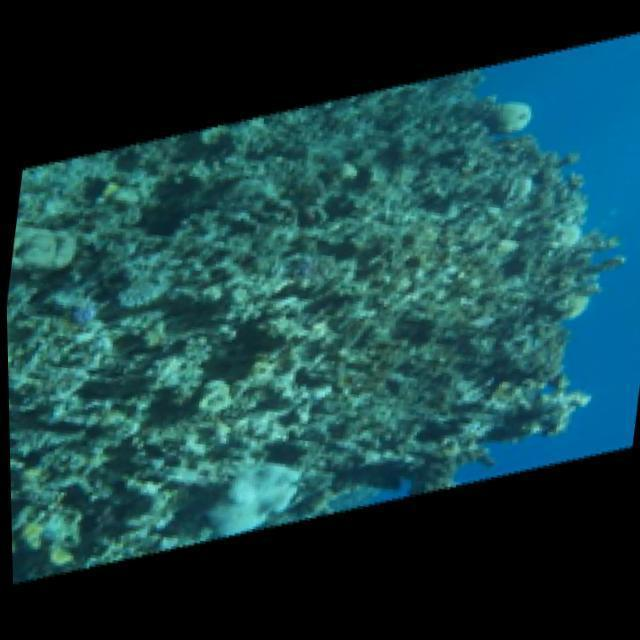Dead Coral: (252, 29, 621, 514), (2, 128, 354, 577), (369, 360, 602, 526), (148, 374, 355, 560), (4, 206, 175, 415), (157, 217, 363, 382), (500, 148, 634, 362), (7, 379, 138, 591)
